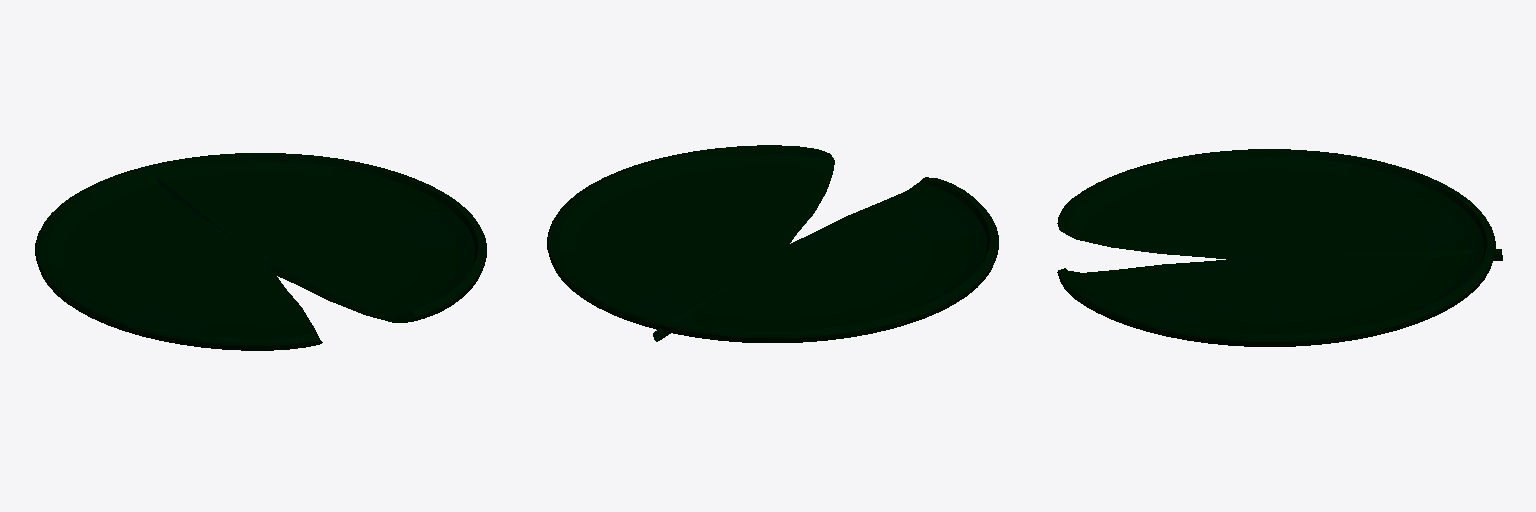
File: lilypad.obj
The picture shows the model from 3 angles: view 1: azimuth 30°, elevation 25°; view 2: azimuth 150°, elevation 25°; view 3: azimuth 270°, elevation 25°; orthographic projection.
Visible parts, largest first — view 1: Circle.001; view 2: Circle.001; view 3: Circle.001.
Boxes of the visible parts, x1,y1,x2,y2 form: Circle.001: [35, 153, 486, 350]; Circle.001: [547, 145, 998, 342]; Circle.001: [1057, 149, 1502, 346].
Bounding box in the file's own units: 2.08 × 0.1318 × 2.04.